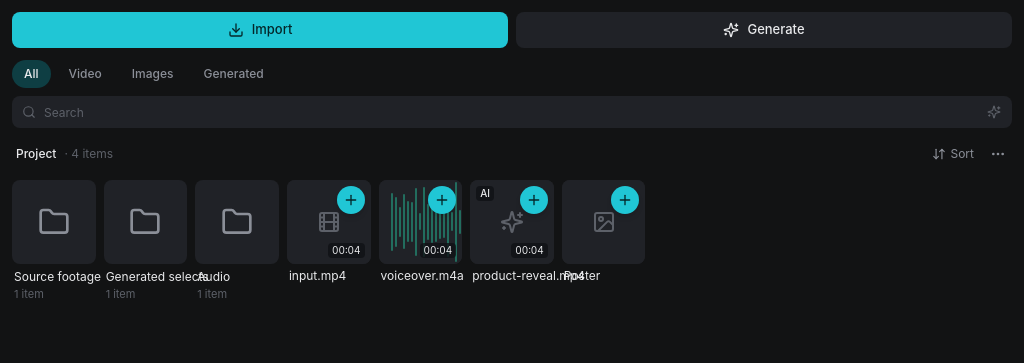
it: MediaPanel browsing › explains that import needs the desktop app
Click the button with aria-label "Import media". click: x=260, y=30
box: 12,12 -> 508,48
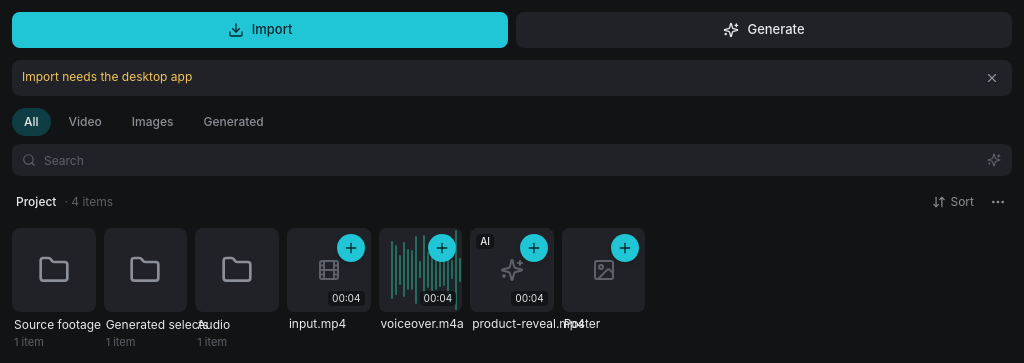
Result: the text "Import needs the desktop app" is shown at 22,69 -> 192,84
